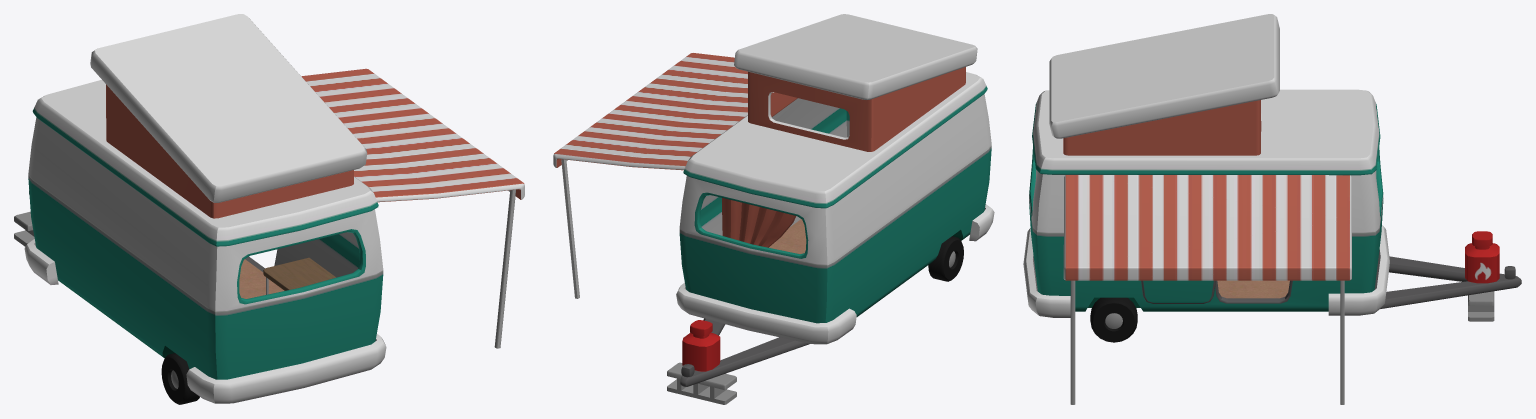
The model's file is camper van.glb.
3 views of the same model, side by side, from view 1: azimuth 30°, elevation 25°; view 2: azimuth 150°, elevation 25°; view 3: azimuth 270°, elevation 25° (orthographic). The views are drawn at different scales.
Visible parts, largest first — view 1: RecRoyale_Frontier_Camper, RecRoyale_Frontier_Camper_Awning; view 2: RecRoyale_Frontier_Camper, RecRoyale_Frontier_Camper_Awning, RecRoyale_Frontier_Camper_Tank; view 3: RecRoyale_Frontier_Camper, RecRoyale_Frontier_Camper_Awning, RecRoyale_Frontier_Camper_Tank.
Boxes of the visible parts, <box> form: RecRoyale_Frontier_Camper: <box>14,14,386,404</box>; RecRoyale_Frontier_Camper_Awning: <box>301,68,524,348</box>; RecRoyale_Frontier_Camper: <box>667,14,994,404</box>; RecRoyale_Frontier_Camper_Awning: <box>553,53,747,298</box>; RecRoyale_Frontier_Camper_Tank: <box>682,320,720,371</box>; RecRoyale_Frontier_Camper: <box>1023,14,1521,342</box>; RecRoyale_Frontier_Camper_Awning: <box>1063,175,1351,404</box>; RecRoyale_Frontier_Camper_Tank: <box>1465,231,1499,283</box>.
Size of the model in its own units: 5.87 by 4.85 by 8.38.
Materials: 1 (1 with a texture image).
